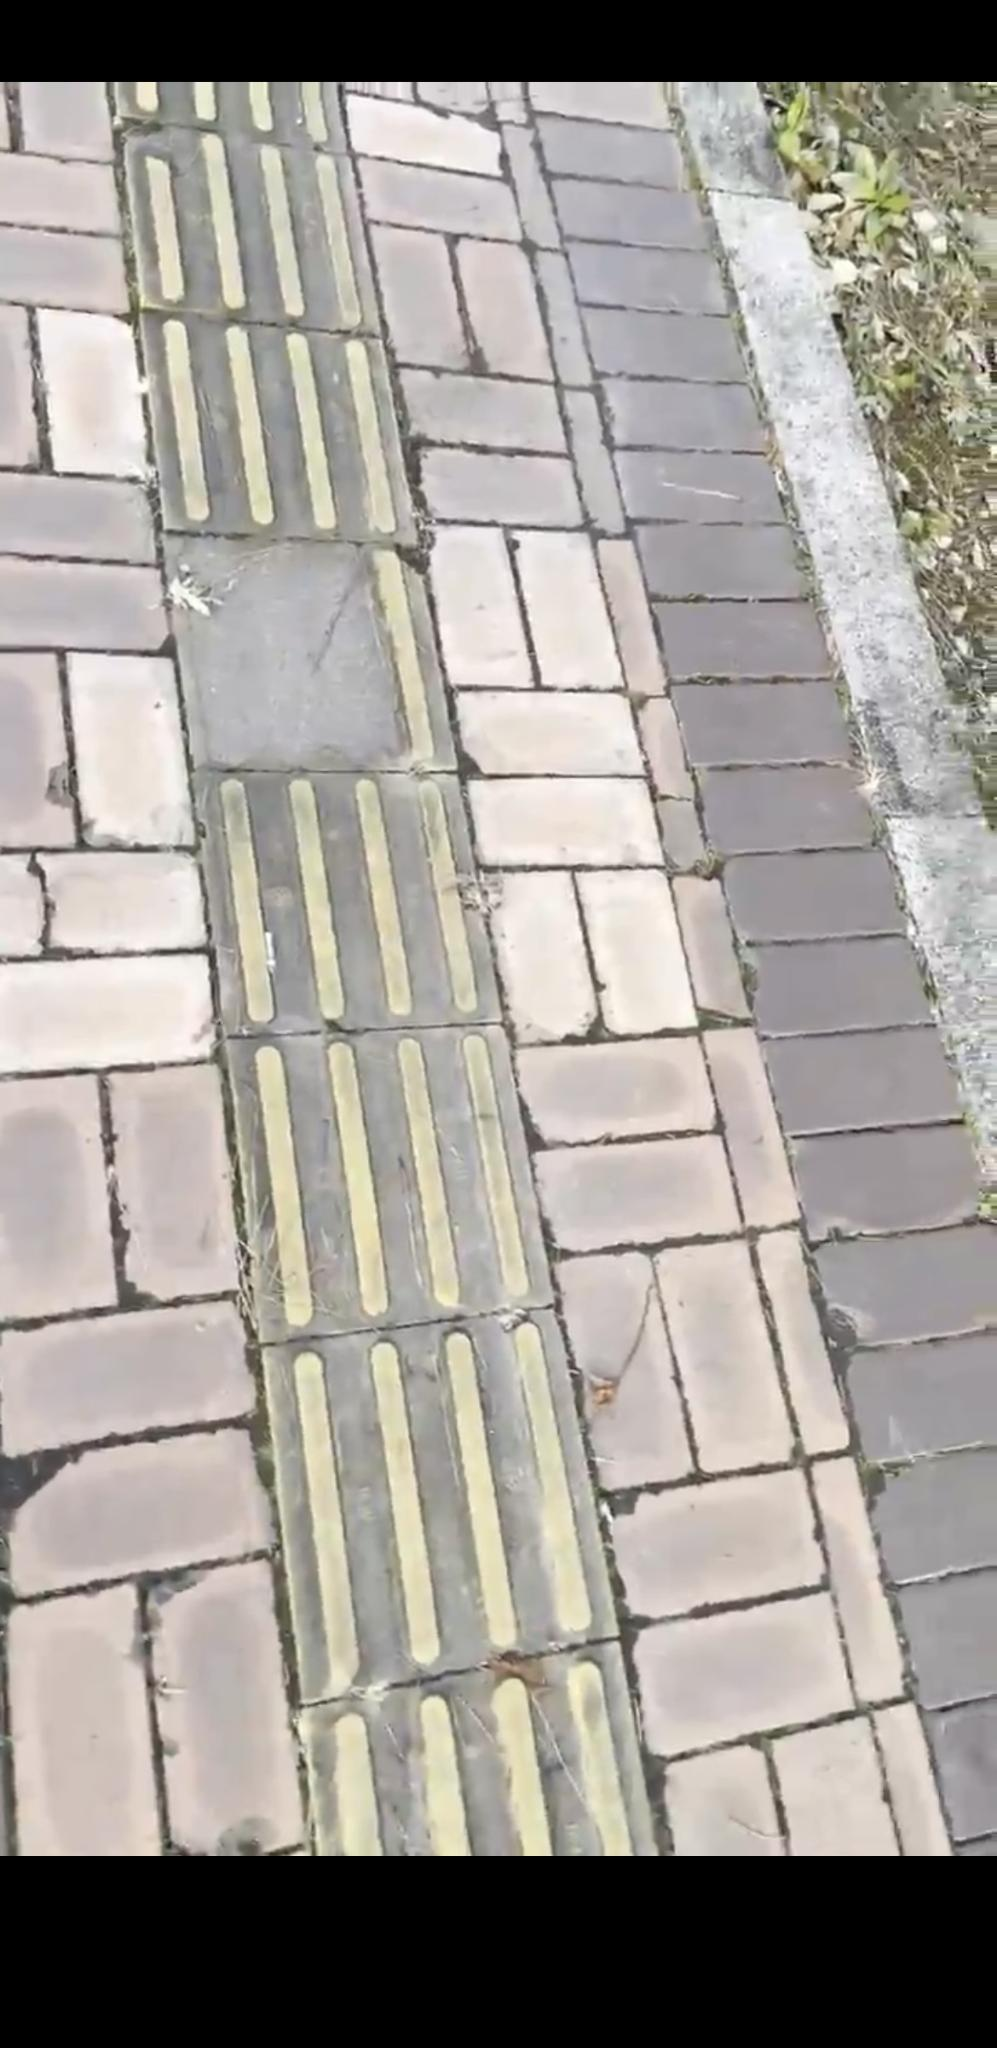Straight block broken: (167, 542, 455, 767)
Straight block normal: (264, 1309, 619, 1698), (229, 1025, 553, 1337), (192, 769, 498, 1031), (142, 316, 418, 539)
